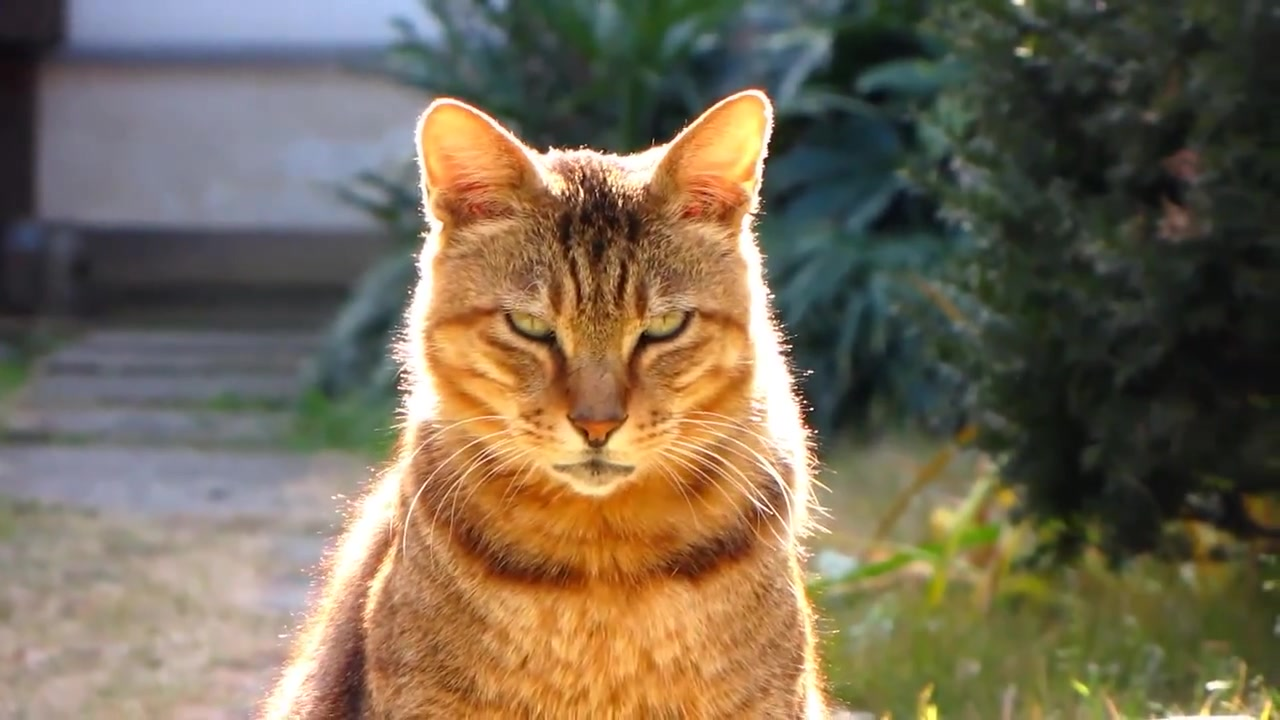cat: (253, 91, 836, 720)
